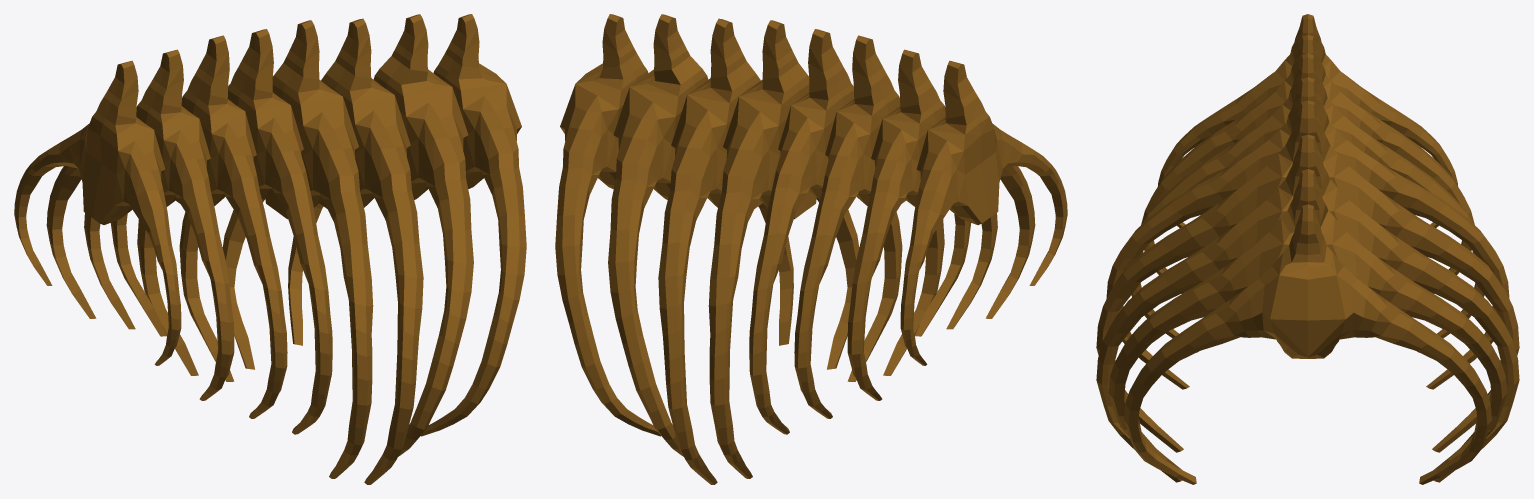
The model's file is Thorax_DINO.FBX.
3 renders of one model, left to right at view 1: azimuth 30°, elevation 25°; view 2: azimuth 150°, elevation 25°; view 3: azimuth 270°, elevation 25°, orthographic. The views are drawn at different scales.
Parts seen in each view (by area): view 1: thorax; view 2: thorax; view 3: thorax.
Part boxes in pixels (x1,y1,x2,y2): thorax: (14,14,526,484); thorax: (555,14,1067,484); thorax: (1096,14,1519,484).
Bounding box in the file's own units: 609 × 587 × 577.
